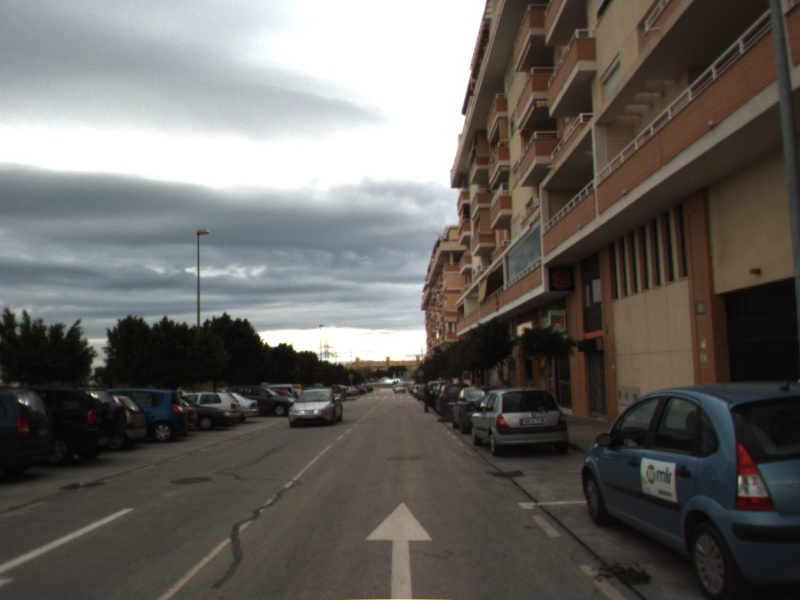STRAIGHT: (363, 500, 435, 600)
